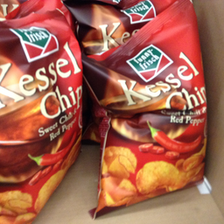chips: (88, 3, 209, 219), (1, 2, 83, 224)
